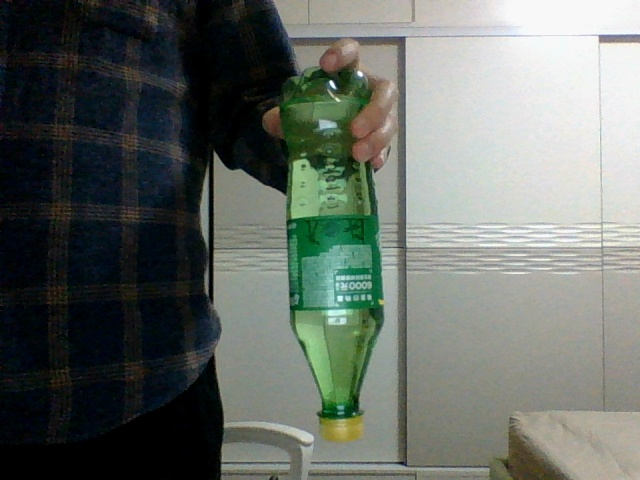Sprite: (280, 67, 384, 443)
